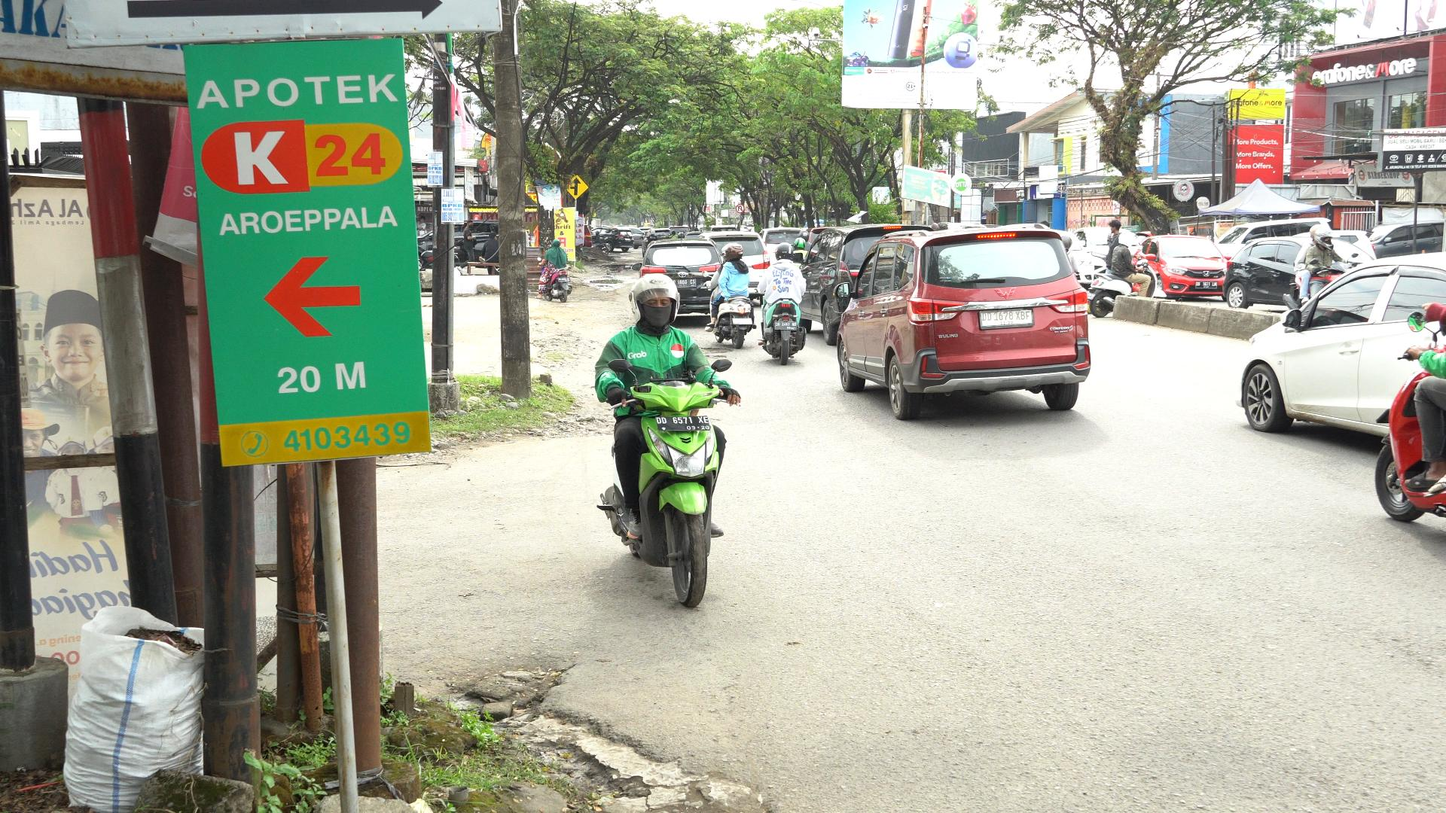number-plate: (658, 413, 713, 432)
